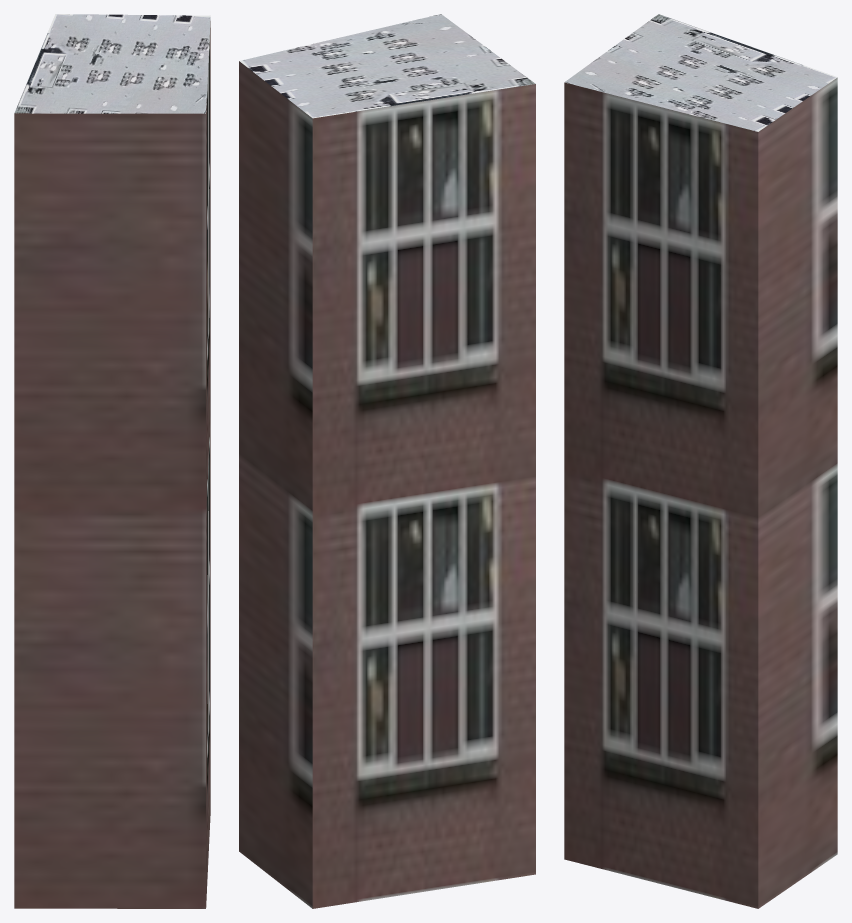
The model's file is ResTex__4320.fbx.
The picture shows the model from 3 angles, left to right: view 1: azimuth 30°, elevation 25°; view 2: azimuth 150°, elevation 25°; view 3: azimuth 270°, elevation 25°; orthographic projection. The views are drawn at different scales.
Parts seen in each view (by area): view 1: CityEngineMaterial_12_m, CityEngineMaterial_4_m; view 2: CityEngineMaterial_12_m, CityEngineMaterial_4_m; view 3: CityEngineMaterial_12_m, CityEngineMaterial_4_m.
Part boxes in pixels (left/top/right/bottom): CityEngineMaterial_12_m: left=14, top=21, right=210, bottom=908; CityEngineMaterial_4_m: left=14, top=14, right=210, bottom=113; CityEngineMaterial_12_m: left=239, top=61, right=535, bottom=908; CityEngineMaterial_4_m: left=239, top=14, right=535, bottom=118; CityEngineMaterial_12_m: left=564, top=77, right=837, bottom=908; CityEngineMaterial_4_m: left=564, top=14, right=837, bottom=131.
Size of the model in its own units: 1.95 by 6 by 1.91.
2 materials, 2 textured.
